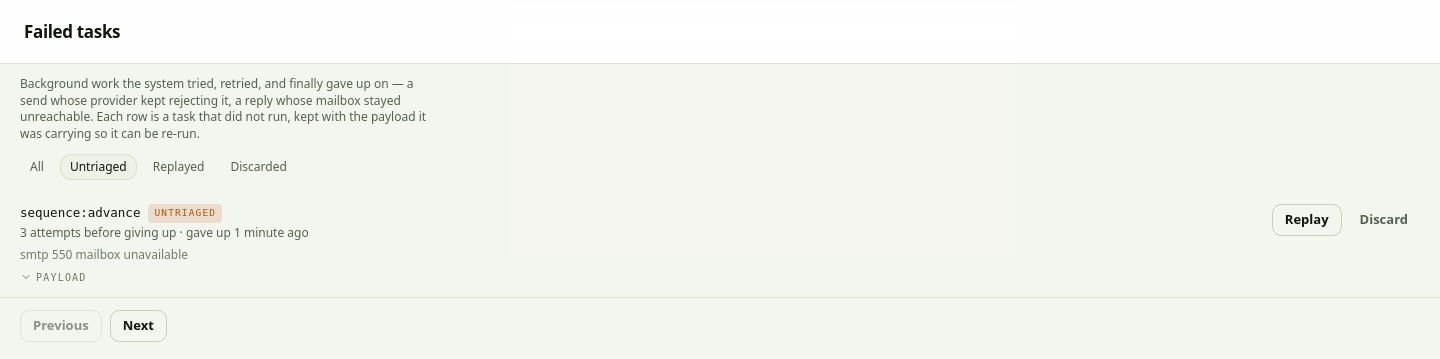
Scenario: Previous returns to a cursor-less first page
Expected: the text "sequence:advance" is shown, top-left (20, 204), bottom-right (140, 223)
Expected: the button "Previous" is disabled, top-left (20, 310), bottom-right (102, 342)
Click the button "Next". click: (138, 326)
box: top-left (110, 310), bottom-right (167, 342)
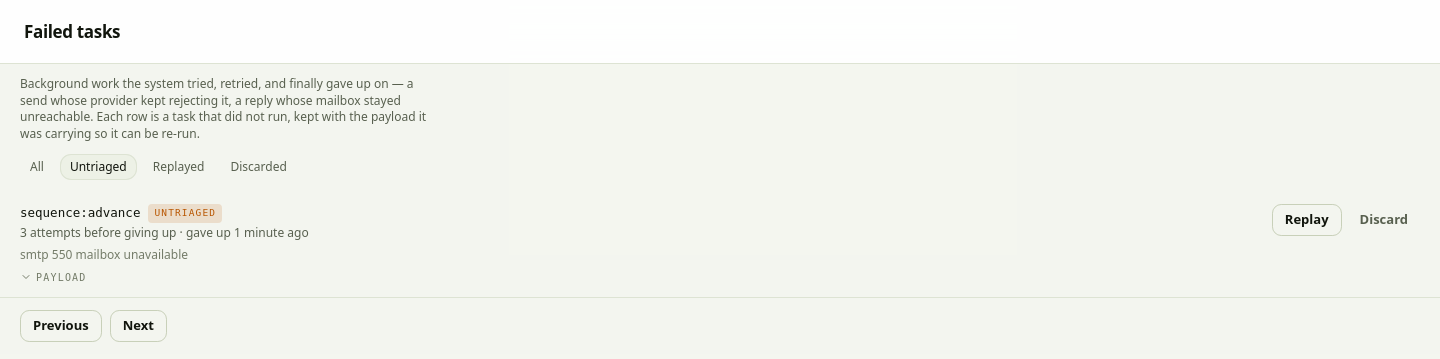
Click the button "Previous". click: (61, 326)
box: top-left (20, 310), bottom-right (102, 342)
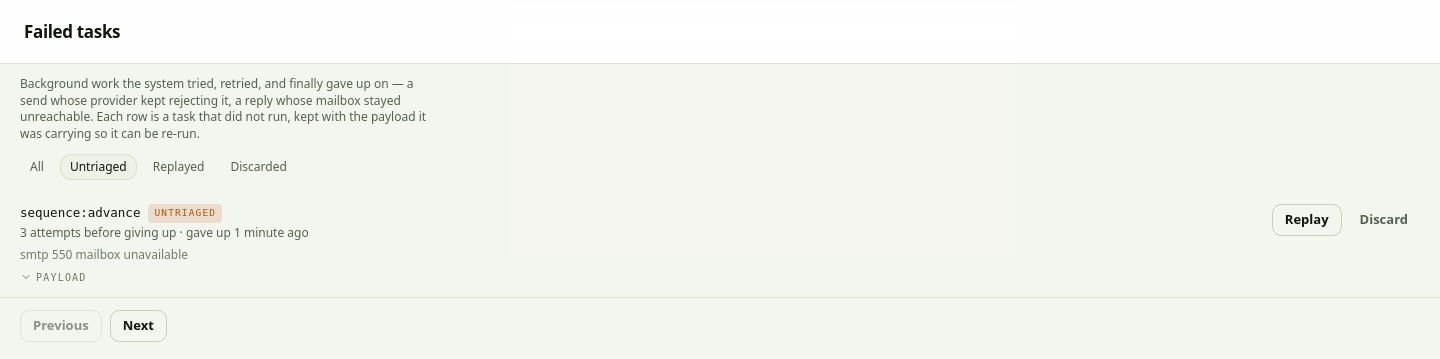
Expected: the button "Previous" is disabled, top-left (20, 310), bottom-right (102, 342)
